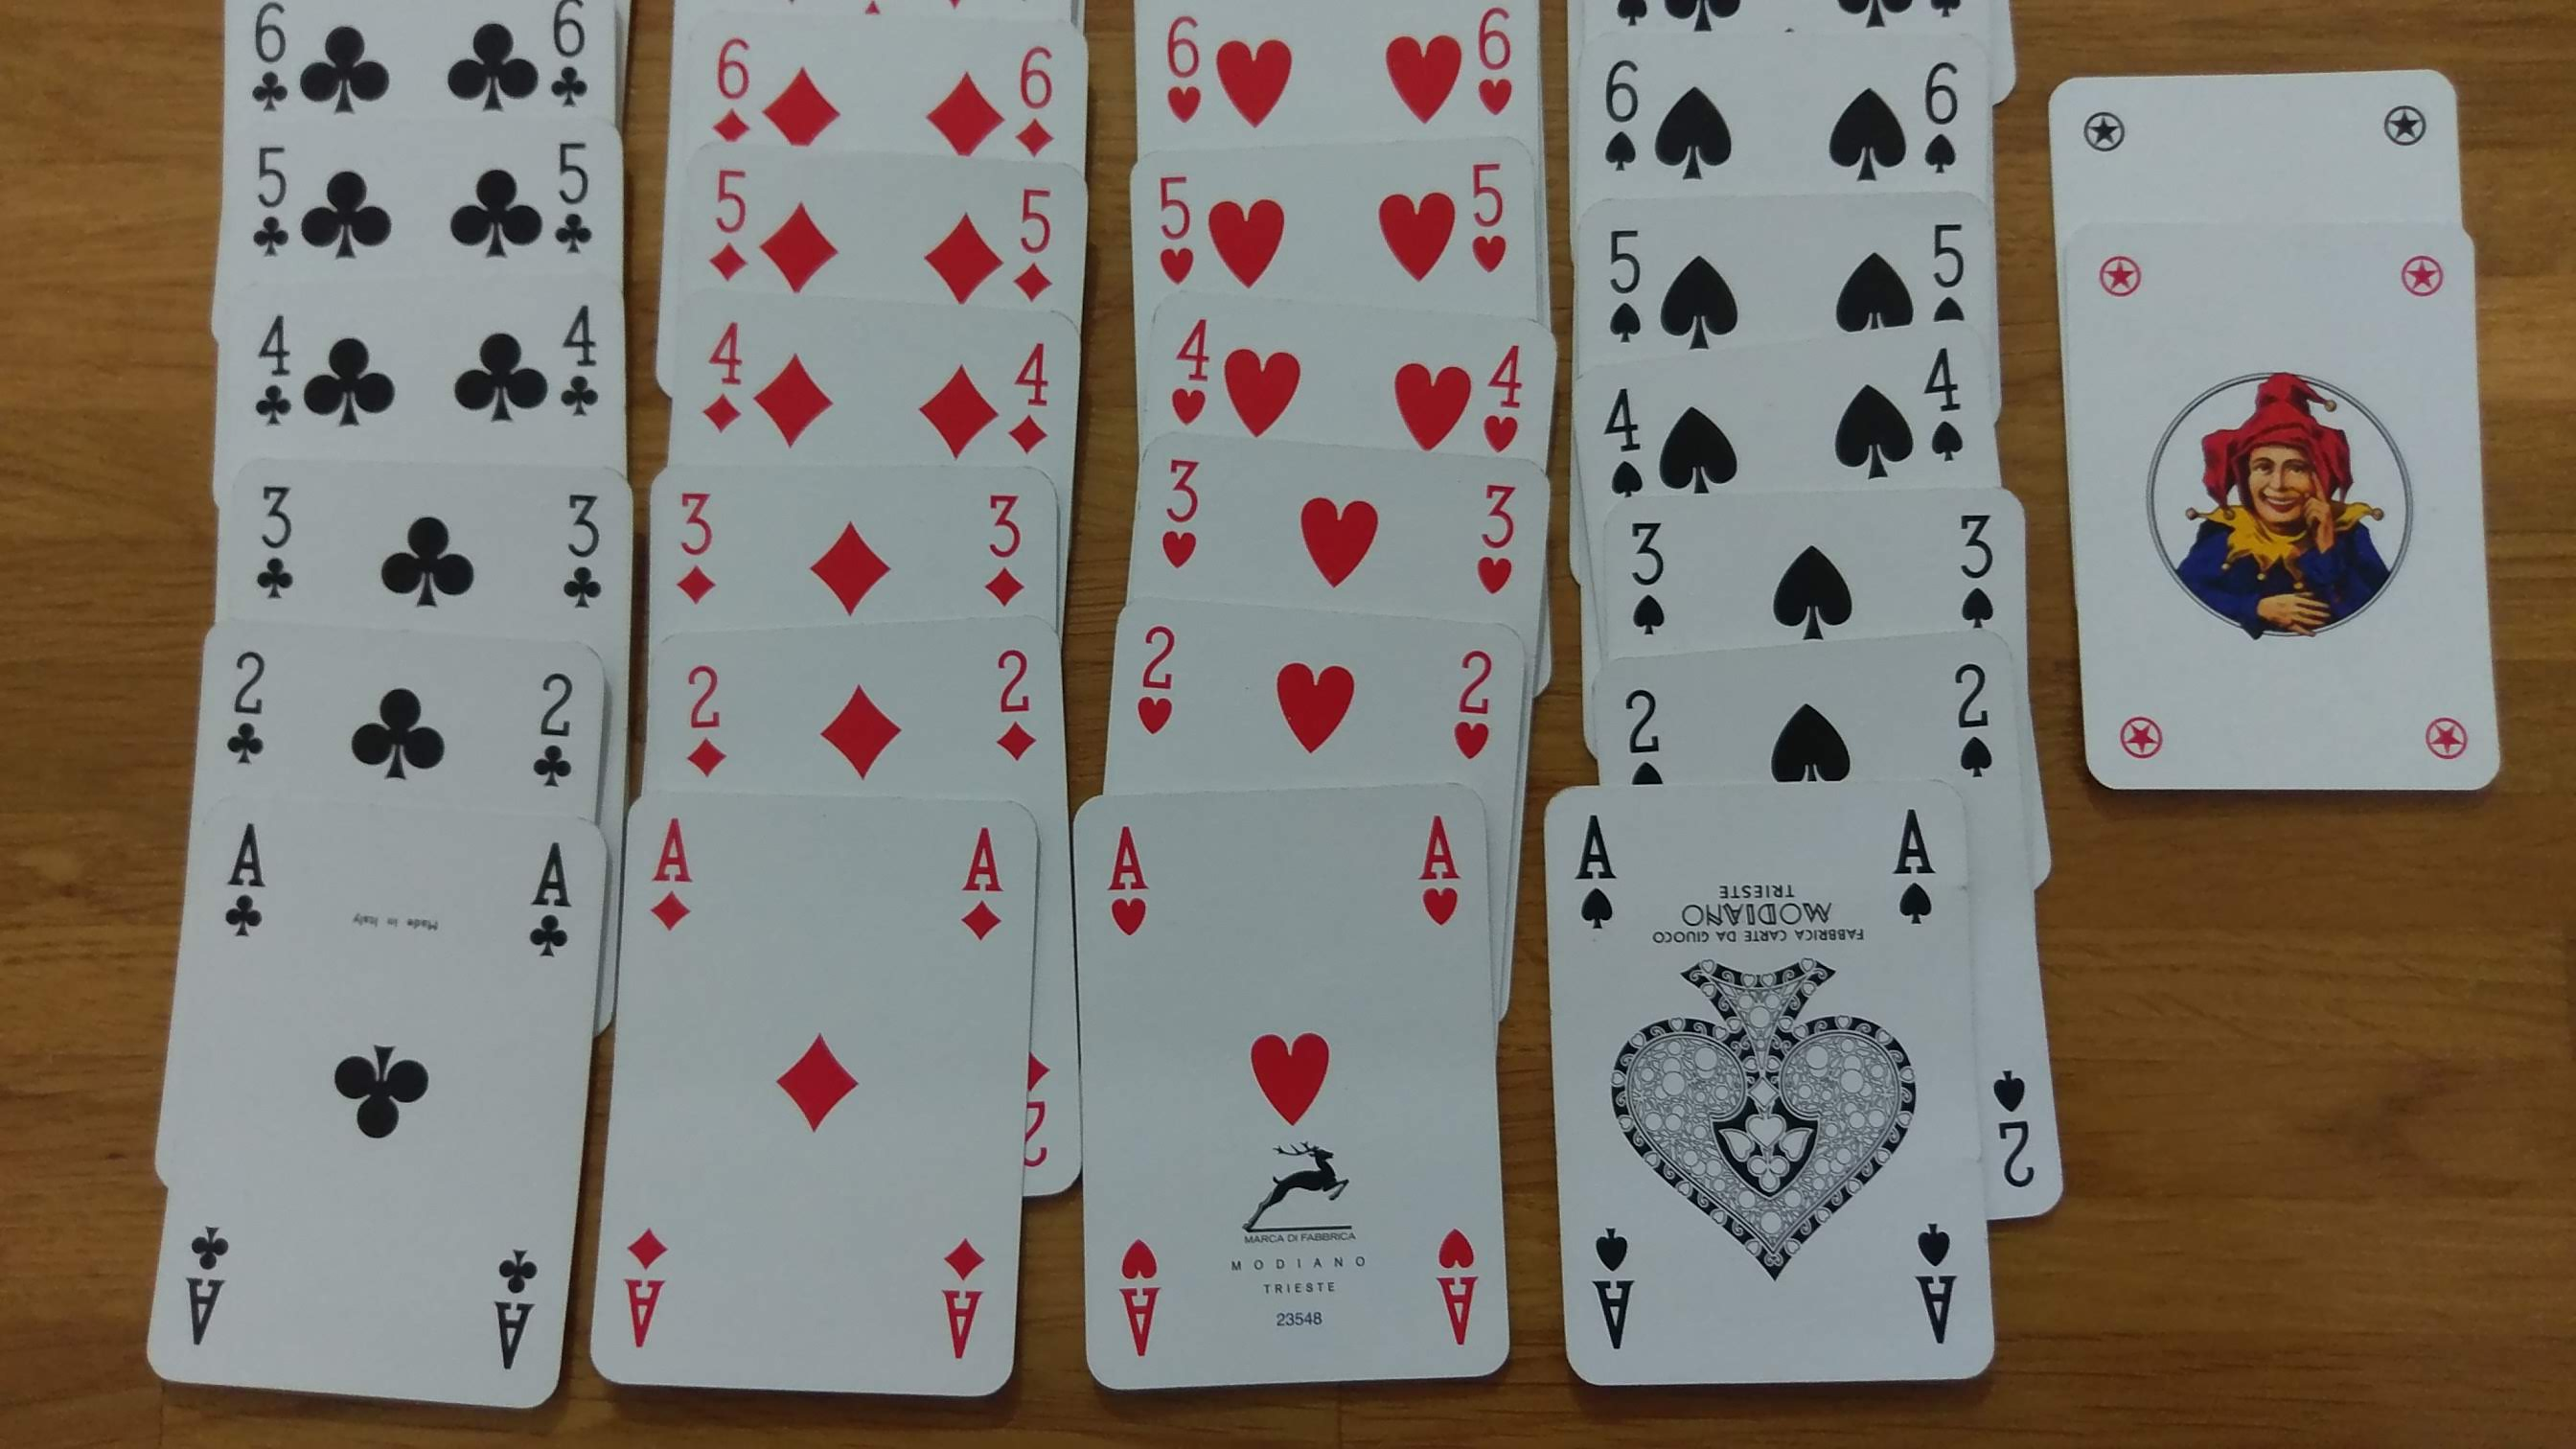1F: (214, 809, 285, 959), (471, 1240, 543, 1382), (175, 1217, 242, 1366), (522, 839, 571, 993)
2F: (525, 663, 571, 809), (225, 642, 274, 777)
3F: (543, 479, 617, 625), (242, 469, 303, 612)
4F: (559, 287, 607, 433), (249, 297, 297, 433)
5F: (543, 133, 598, 272), (248, 140, 304, 269)
6F: (234, 2, 304, 127), (533, 2, 607, 120)
